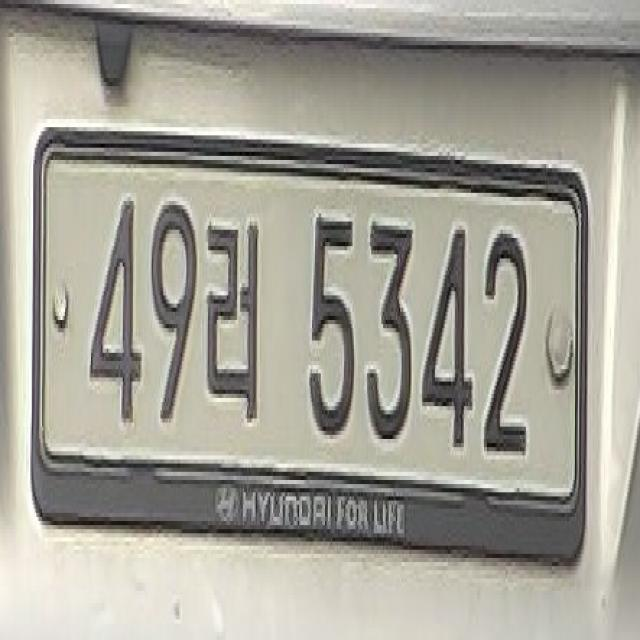2: (481, 222, 529, 478)
3: (365, 210, 416, 448)
4: (85, 180, 148, 436), (418, 208, 476, 470)
5: (306, 207, 362, 449)
9: (150, 178, 202, 454)
leo: (205, 189, 270, 452)
license_plate: (24, 102, 600, 594)
